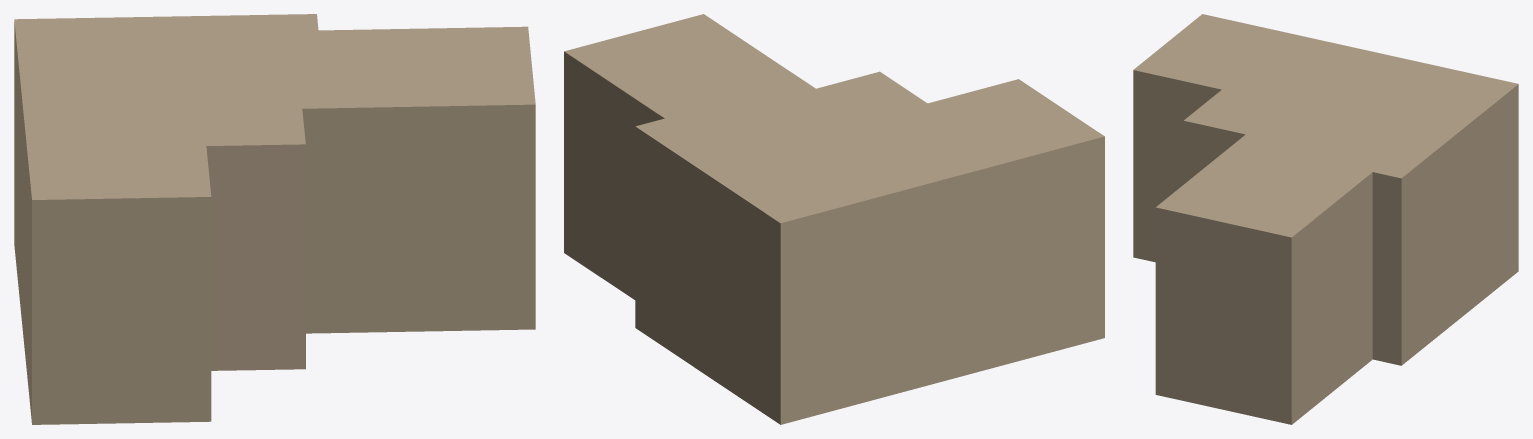
File: bld_106338907.dae
3 views of the same model, side by side, from view 1: azimuth 30°, elevation 25°; view 2: azimuth 150°, elevation 25°; view 3: azimuth 270°, elevation 25° (orthographic). The views are drawn at different scales.
Visible parts, largest first — view 1: bld_106338907; view 2: bld_106338907; view 3: bld_106338907.
Boxes of the visible parts, left/top/right/bottom form: bld_106338907: left=14, top=14, right=535, bottom=424; bld_106338907: left=564, top=14, right=1104, bottom=424; bld_106338907: left=1133, top=14, right=1518, bottom=424.
Size of the model in its own units: 20.46 by 14.91 by 8.
